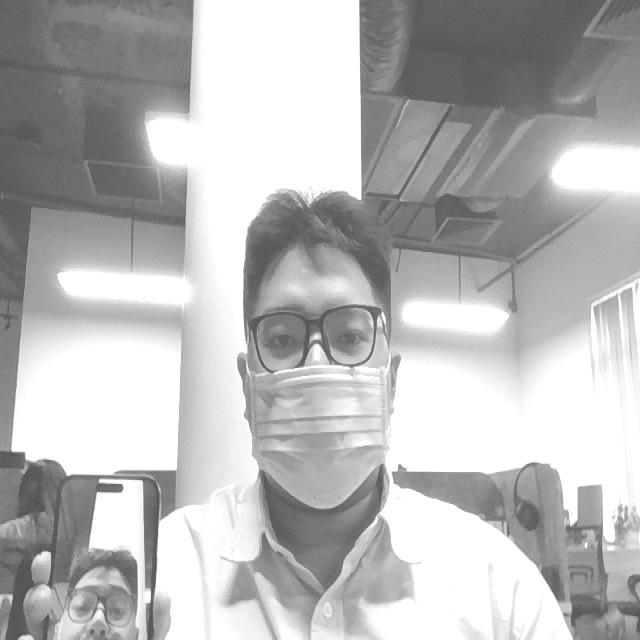fake: (240, 369, 401, 516), (43, 454, 167, 640), (54, 541, 145, 640)
real: (233, 169, 405, 519), (249, 297, 387, 371)
